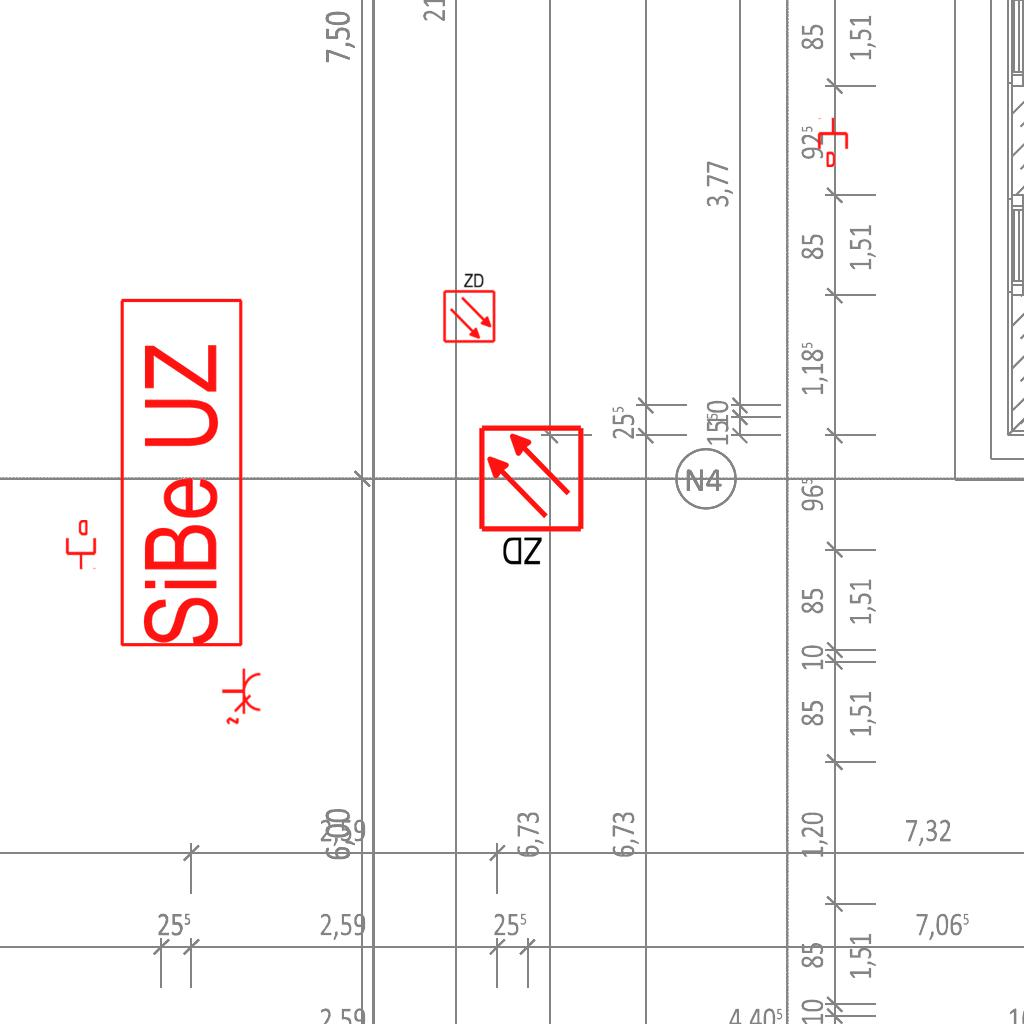Datenanschluss_einfach: (64, 520, 98, 570), (816, 117, 850, 167)
Schukosteckdose_mehrfach: (219, 666, 263, 726)
ZD_Melder_in_Zwischendecke_mit_Revisionsoeffnung_mind_40_x_40_cm: (476, 423, 590, 572), (440, 270, 497, 344)
Zentrale_Sicherheitsbeleuchtung: (117, 293, 247, 650)
